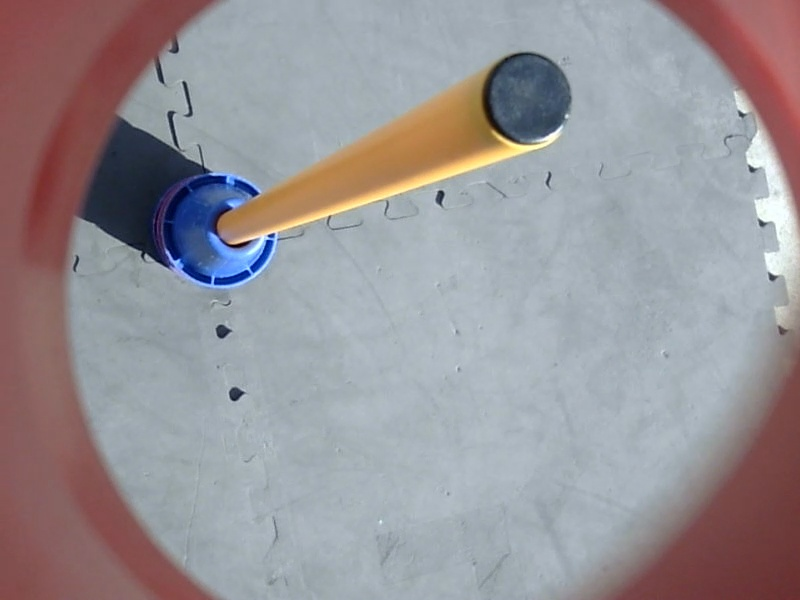tip: (475, 50, 579, 152)
